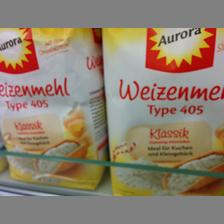Mehl: (102, 28, 222, 196), (0, 26, 104, 189)
